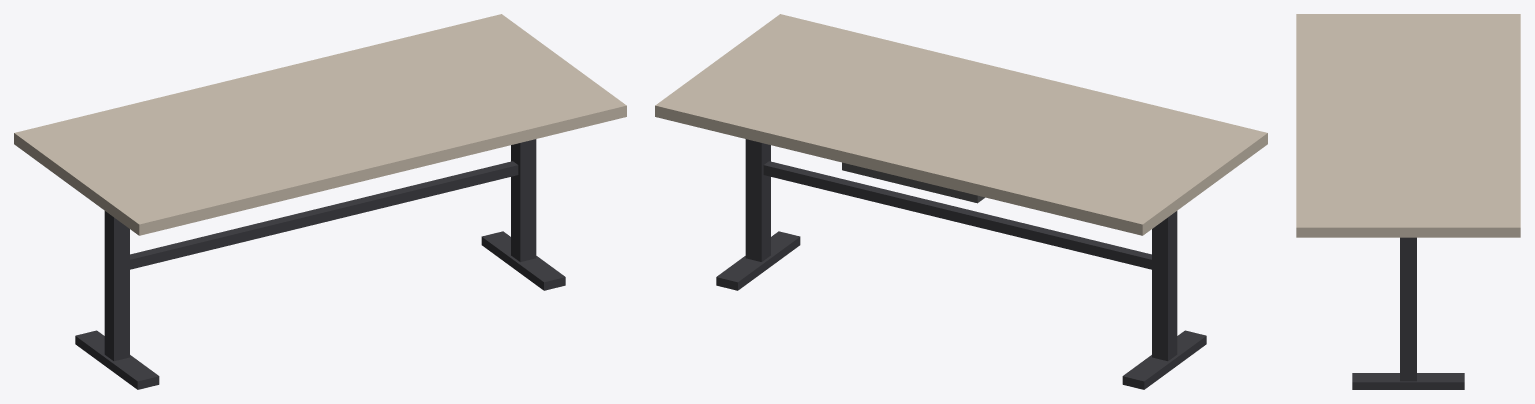
File: standing-desk.glb
3 renders of one model, left to right at view 1: azimuth 30°, elevation 25°; view 2: azimuth 150°, elevation 25°; view 3: azimuth 270°, elevation 25°, orthographic. The views are drawn at different scales.
Size of the model in its own units: 1.8 by 0.69 by 0.8.
